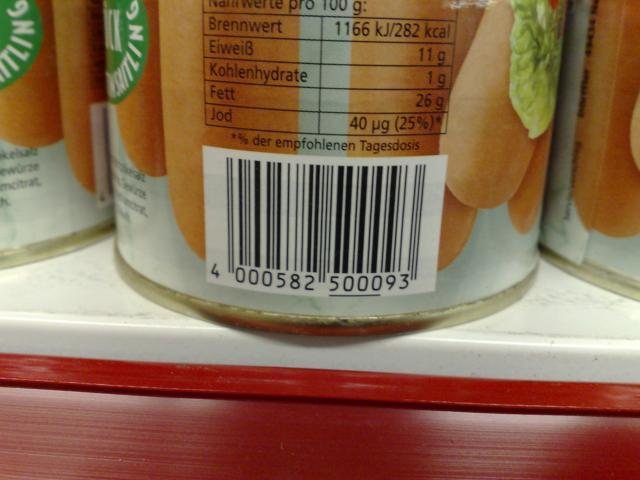Barcode: (201, 145, 449, 298)
